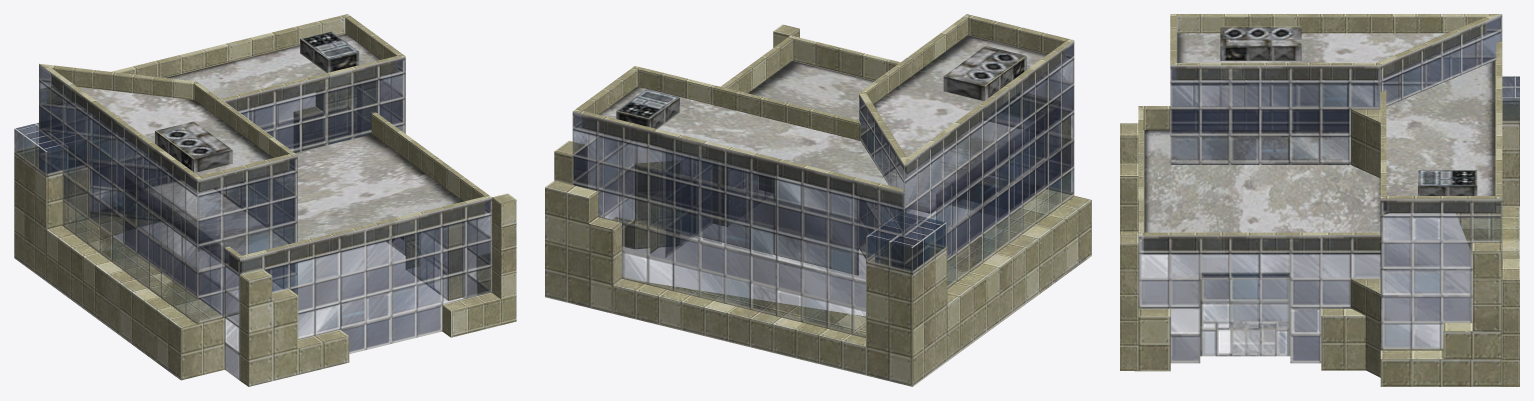
Rendered from Civilian - Civilian Building - office 01 - CBoffice01.glb.
3 renders of one model, left to right at view 1: azimuth 30°, elevation 25°; view 2: azimuth 150°, elevation 25°; view 3: azimuth 270°, elevation 25°, orthographic. The views are drawn at different scales.
Visible parts, largest first — view 1: CBOFFICE01; view 2: CBOFFICE01; view 3: CBOFFICE01.
Part boxes in pixels (x1=…): CBOFFICE01: x1=14, y1=14, x2=516, y2=386; CBOFFICE01: x1=545, y1=14, x2=1091, y2=386; CBOFFICE01: x1=1120, y1=14, x2=1519, y2=386.
Bounding box in the file's own units: 132 × 72.51 × 127.
Materials: 1 (1 with a texture image).
